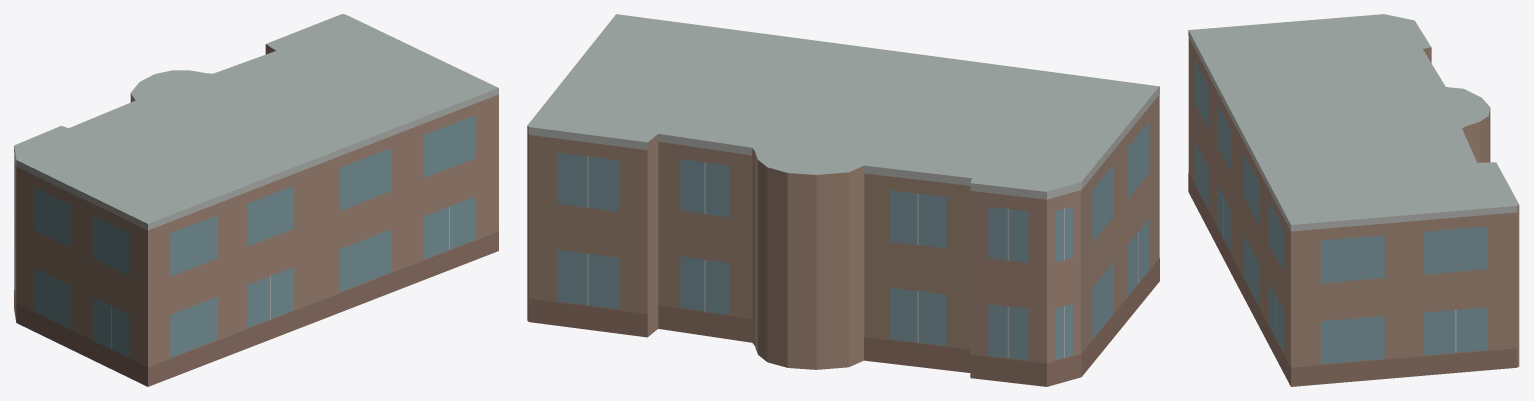
File: survey-upis-32616228.glb
The picture shows the model from 3 angles, left to right: view 1: azimuth 30°, elevation 25°; view 2: azimuth 150°, elevation 25°; view 3: azimuth 270°, elevation 25°; orthographic projection. The views are drawn at different scales.
Visible parts, largest first — view 1: survey-upis-32616228.tmp; view 2: survey-upis-32616228.tmp; view 3: survey-upis-32616228.tmp.
Part boxes in pixels (x1,y1,x2,y2): survey-upis-32616228.tmp: (14, 14, 498, 386); survey-upis-32616228.tmp: (527, 14, 1159, 386); survey-upis-32616228.tmp: (1188, 14, 1519, 386).
Size of the model in its own units: 17.08 by 6.1 by 11.32.
